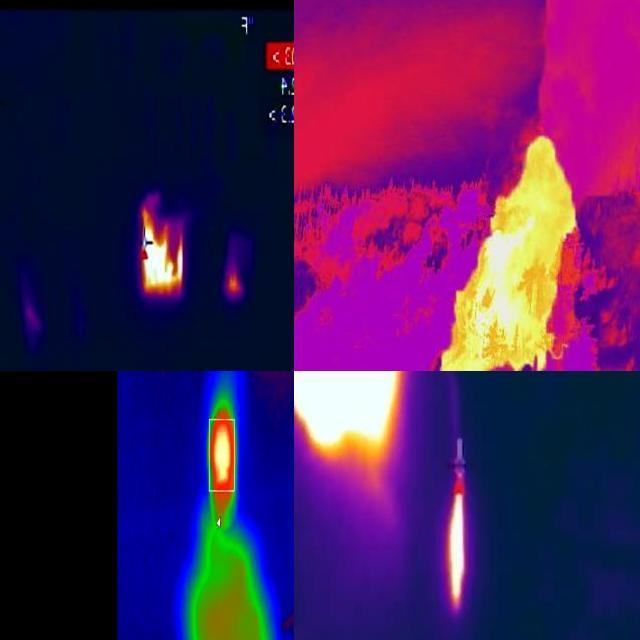fire: (439, 138, 589, 372), (295, 372, 399, 461), (206, 391, 239, 529), (141, 197, 185, 295), (443, 473, 469, 613), (225, 265, 245, 299)
